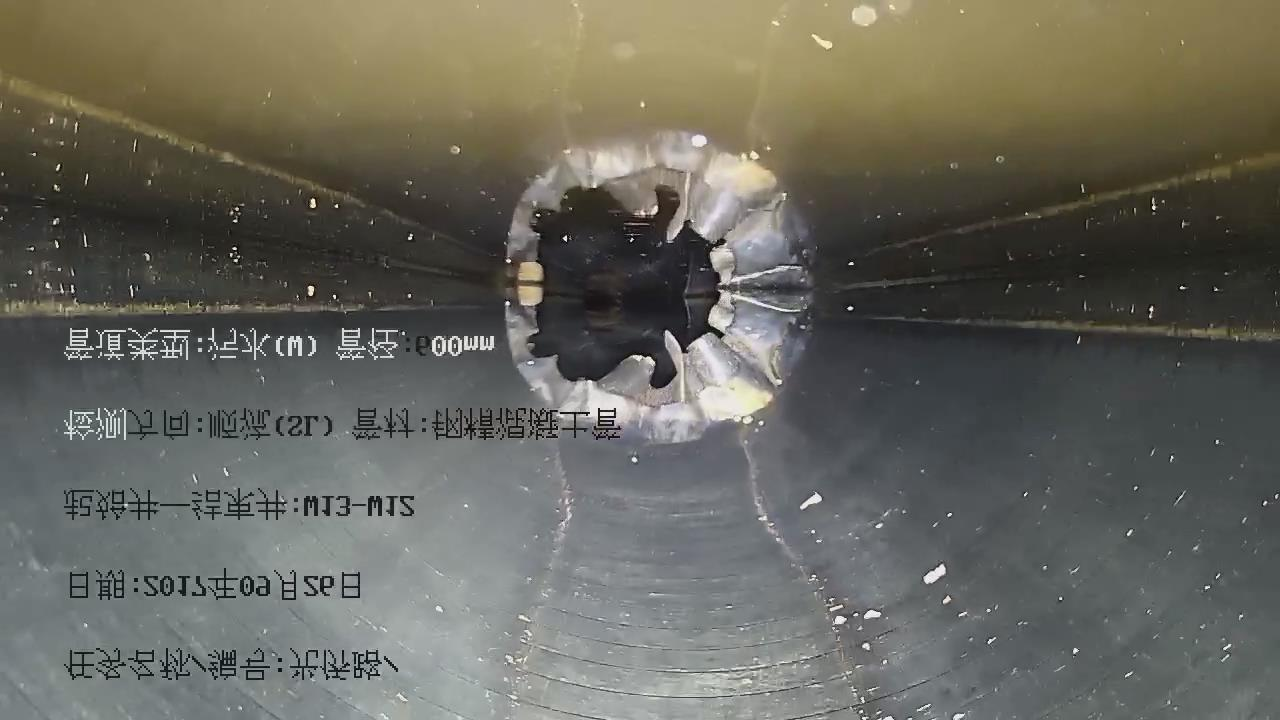JKCL: (505, 193, 812, 443)
